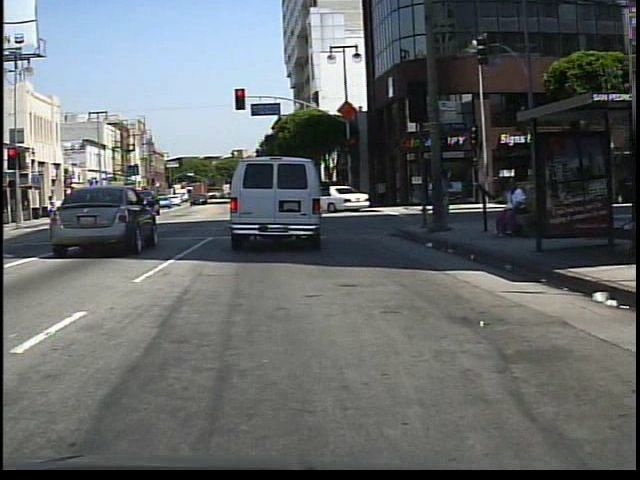person: (493, 177, 530, 240), (430, 166, 459, 236), (46, 194, 63, 227)
